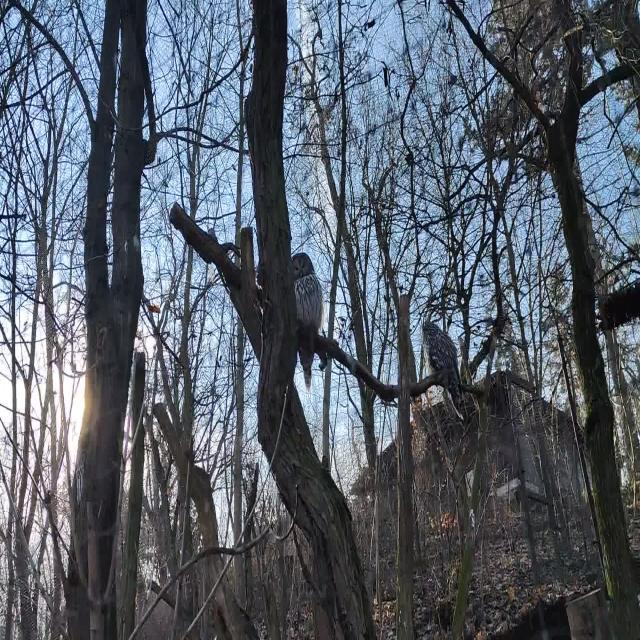bird: (292, 252, 324, 392), (422, 322, 467, 421)
